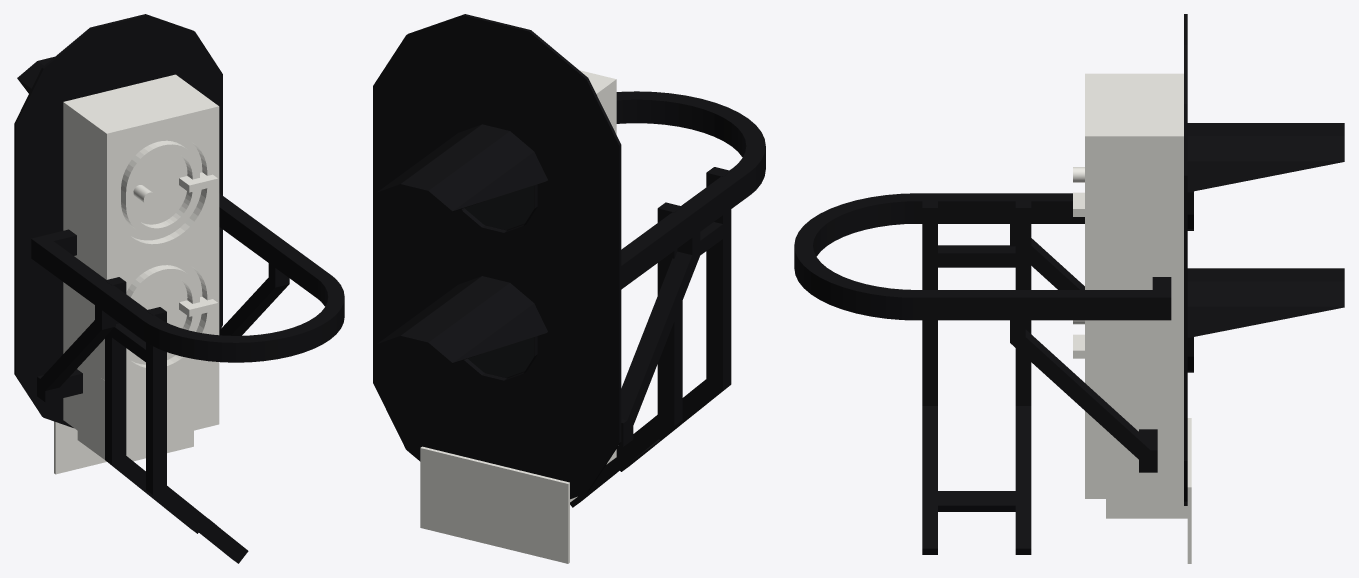
File: 2chamber_right.obj
3 views of the same model, side by side, from view 1: azimuth 30°, elevation 25°; view 2: azimuth 150°, elevation 25°; view 3: azimuth 270°, elevation 25° (orthographic). The views are drawn at different scales.
Visible parts, largest first — view 1: signal_head, signal_plate, railing, ladder_top, ladder_middle, signal_id; view 2: signal_plate, railing, signal_id, ladder_top, ladder_middle, red, white, signal_head; view 3: signal_head, railing, signal_plate, ladder_top, ladder_middle, signal_id.
Part boxes in pixels (left/top/right/bottom): signal_head: left=63, top=74, right=219, bottom=461; signal_plate: left=14, top=14, right=222, bottom=427; railing: left=31, top=193, right=344, bottom=402; ladder_top: left=105, top=277, right=166, bottom=494; ladder_middle: left=108, top=456, right=248, bottom=563; signal_id: left=54, top=421, right=106, bottom=474; signal_plate: left=373, top=14, right=621, bottom=499; railing: left=616, top=91, right=765, bottom=446; signal_id: left=420, top=446, right=569, bottom=563; ladder_top: left=657, top=167, right=731, bottom=425; ladder_middle: left=570, top=375, right=728, bottom=507; red: left=464, top=185, right=534, bottom=229; white: left=468, top=337, right=534, bottom=377; signal_head: left=570, top=70, right=616, bottom=502; signal_head: left=1073, top=73, right=1187, bottom=518; railing: left=794, top=193, right=1171, bottom=472; signal_plate: left=1184, top=14, right=1344, bottom=505; ladder_top: left=922, top=200, right=1031, bottom=405; ladder_middle: left=922, top=406, right=1031, bottom=554; signal_id: left=1187, top=418, right=1191, bottom=563.
Bounding box in the file's own units: 0.61 × 1.29 × 1.23.
